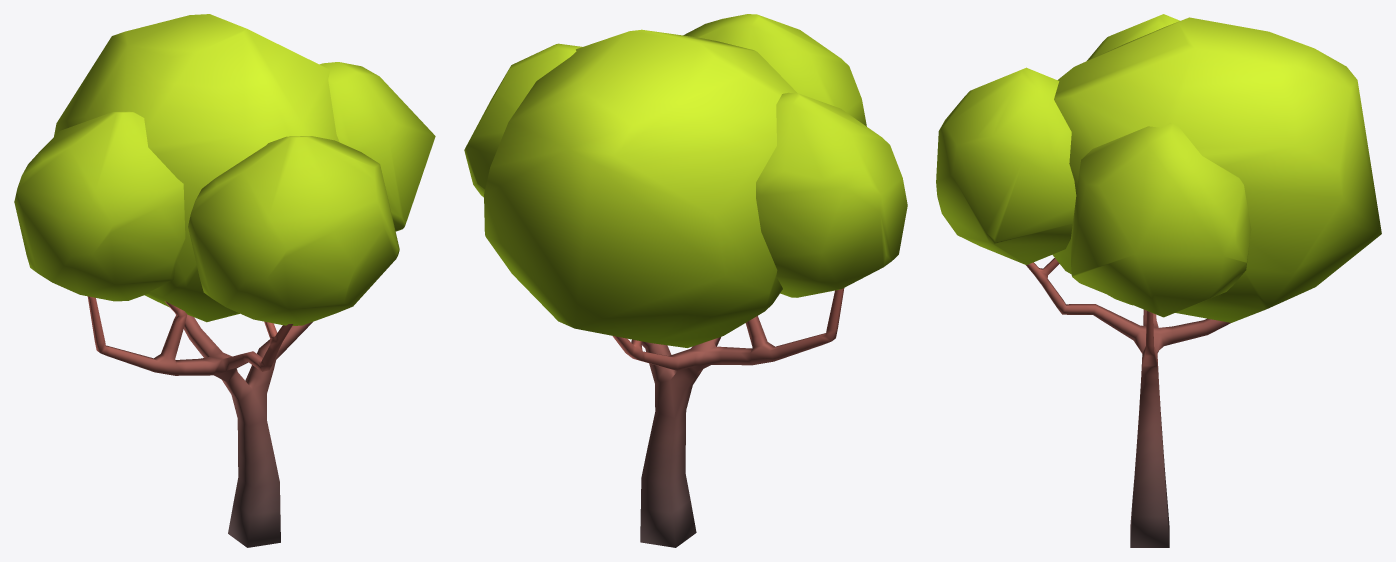
The picture shows the model from 3 angles, left to right: view 1: azimuth 30°, elevation 25°; view 2: azimuth 150°, elevation 25°; view 3: azimuth 270°, elevation 25°; orthographic projection. The views are drawn at different scales.
Parts seen in each view (by area): view 1: Vert.041; view 2: Vert.041; view 3: Vert.041.
Boxes of the visible parts, x1,y1,x2,y2 form: Vert.041: (14,14,435,547); Vert.041: (464,14,907,547); Vert.041: (936,14,1381,547).
Bounding box in the file's own units: 4.23 × 5.05 × 4.09.
Materials: 1 (1 with a texture image).
